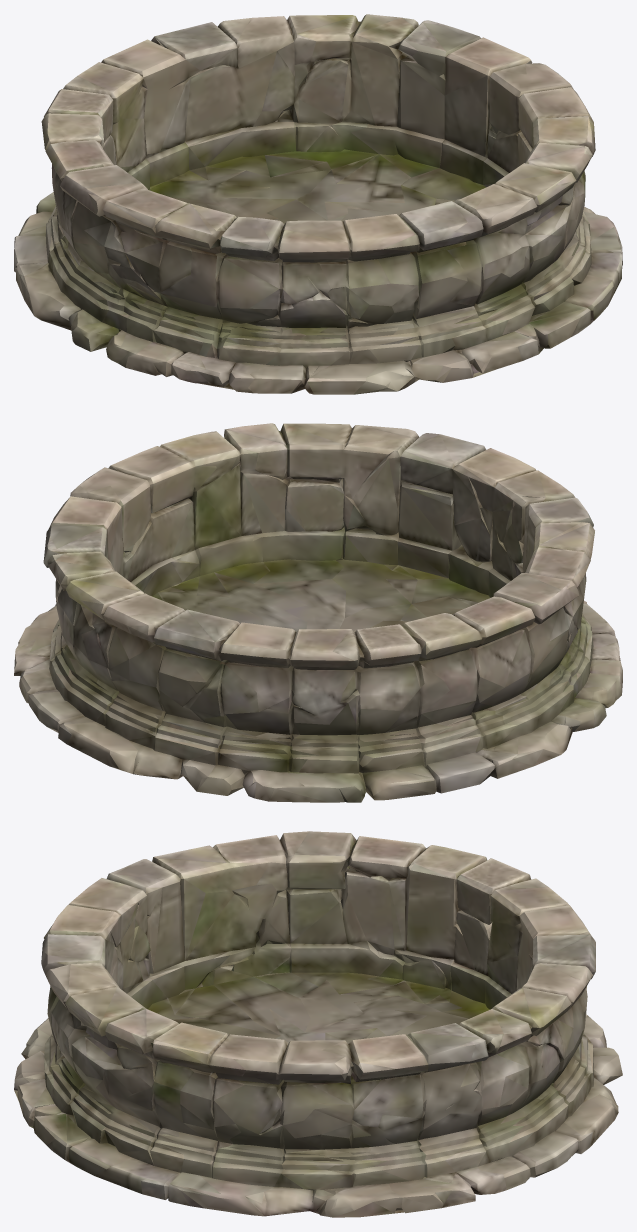
The model's file is fountain_dry.glb.
The picture shows the model from 3 angles, top to bottom: view 1: azimuth 30°, elevation 25°; view 2: azimuth 150°, elevation 25°; view 3: azimuth 270°, elevation 25°; orthographic projection.
Parts seen in each view (by area): view 1: Mesh_0; view 2: Mesh_0; view 3: Mesh_0.
Part boxes in pixels (x1,y1,x2,y2): Mesh_0: (14, 14, 622, 394); Mesh_0: (14, 423, 622, 802); Mesh_0: (14, 831, 622, 1217).
Size of the model in its own units: 1.9 by 0.4867 by 1.89.
1 material, 1 textured.
